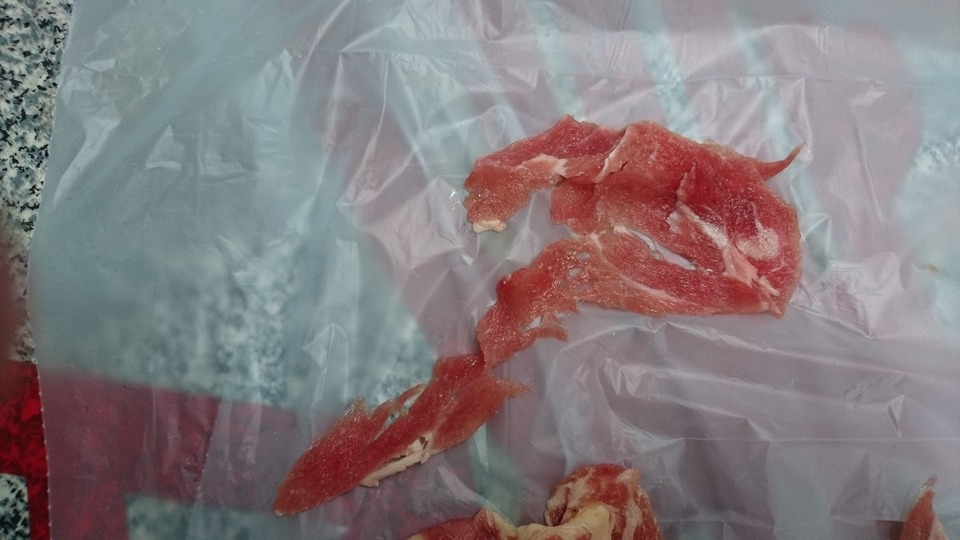restructured meat: (310, 133, 802, 482)
